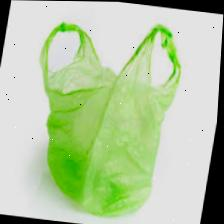plastic: (15, 7, 191, 224)
